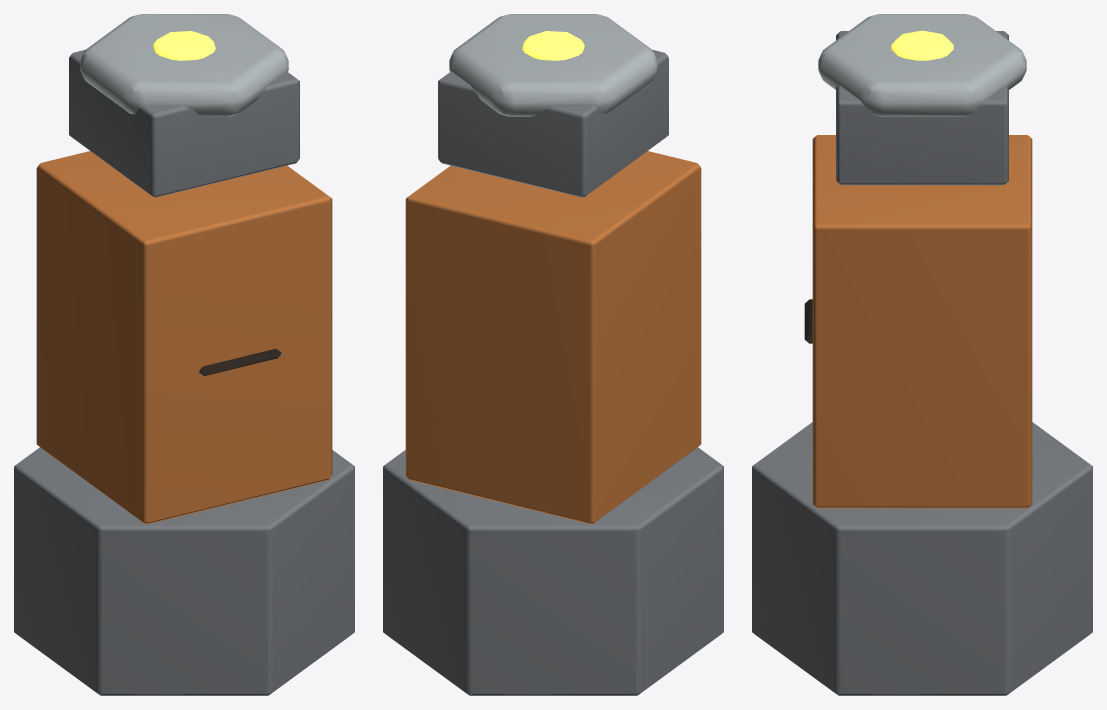
File: cobble_sons_arm_ratchet.glb
3 renders of one model, left to right at view 1: azimuth 30°, elevation 25°; view 2: azimuth 150°, elevation 25°; view 3: azimuth 270°, elevation 25°, orthographic.
Visible parts, largest first — view 1: cobble_sons_arm_ratchet; view 2: cobble_sons_arm_ratchet; view 3: cobble_sons_arm_ratchet.
Boxes of the visible parts, <box> form: cobble_sons_arm_ratchet: <box>14,14,354,695</box>; cobble_sons_arm_ratchet: <box>383,14,723,695</box>; cobble_sons_arm_ratchet: <box>752,14,1092,695</box>.
Bounding box in the file's own units: 0.3811 × 0.8425 × 0.434.
1 material, 1 textured.
